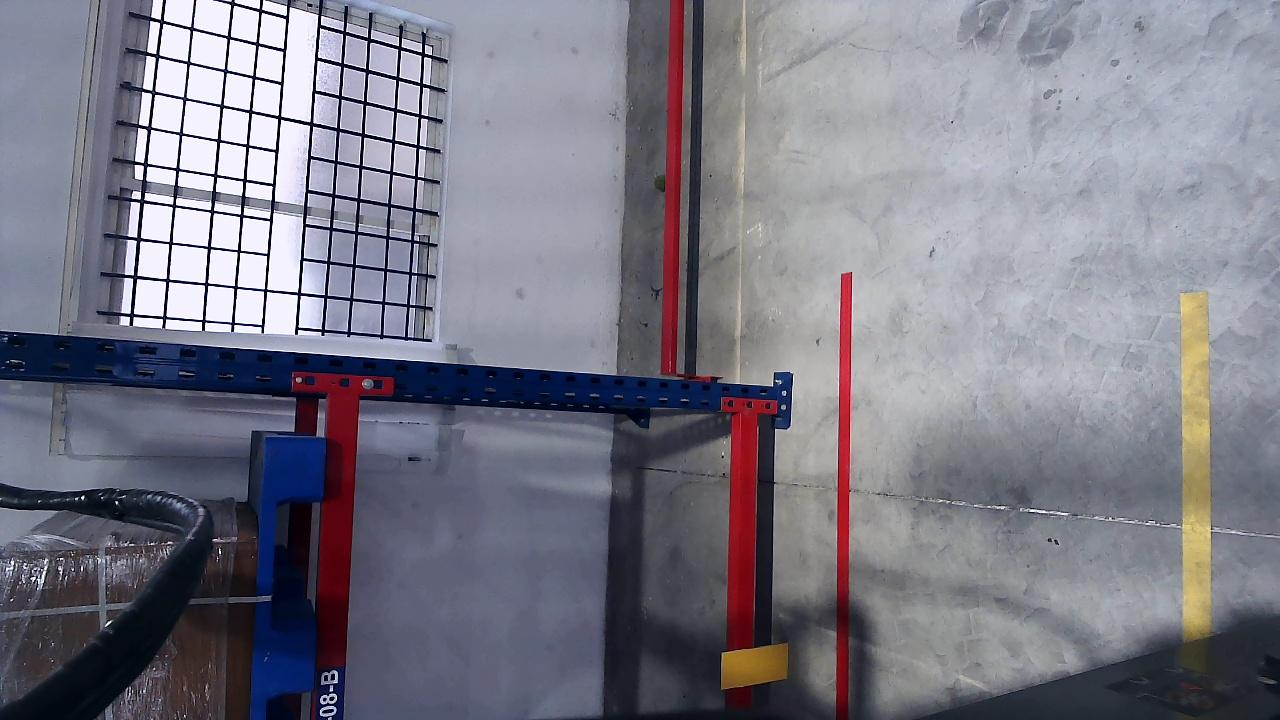h_rack: (309, 394, 363, 719), (729, 411, 761, 711)
orange_strip: (719, 642, 788, 689)
red_line: (834, 274, 854, 717)
small_pallet: (247, 414, 326, 719)
yellow_line: (1180, 298, 1213, 635)
